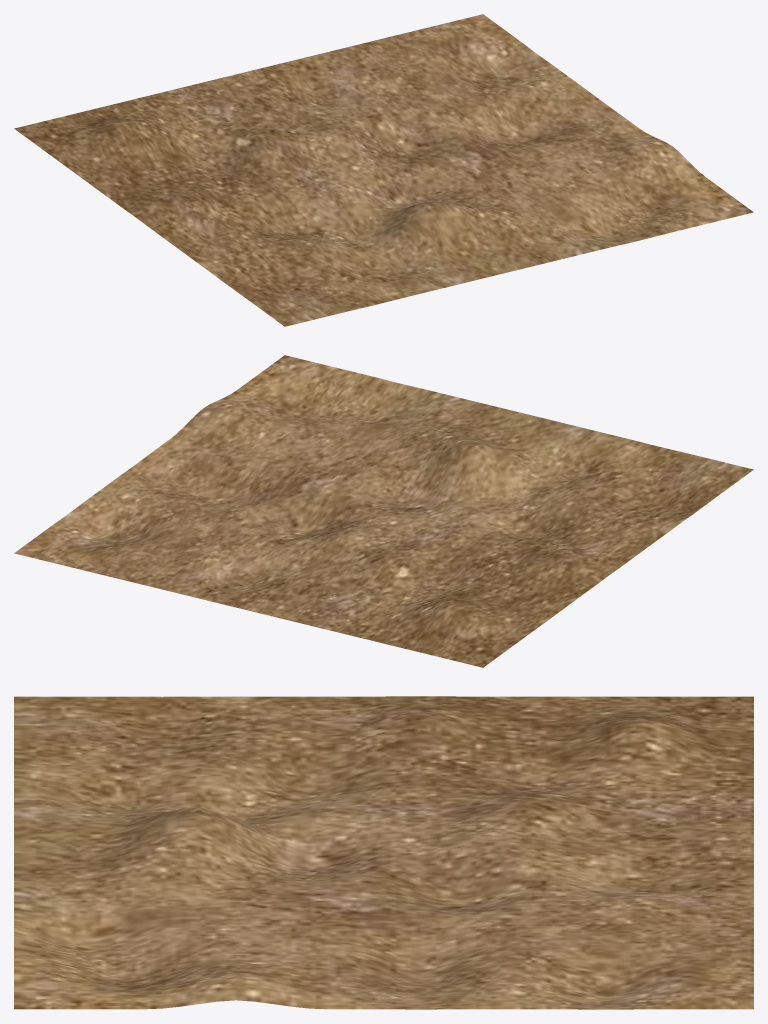
File: ground.fbx
The picture shows the model from 3 angles, top to bottom: view 1: azimuth 30°, elevation 25°; view 2: azimuth 150°, elevation 25°; view 3: azimuth 270°, elevation 25°; orthographic projection. The views are drawn at different scales.
Parts seen in each view (by area): view 1: pPlane1; view 2: pPlane1; view 3: pPlane1.
Boxes of the visible parts, x1,y1,x2,y2 form: pPlane1: (14,14,753,326); pPlane1: (14,355,753,667); pPlane1: (14,696,753,1009).
Size of the model in its own units: 50 by 3.4 by 50.
Materials: 1 (1 with a texture image).
